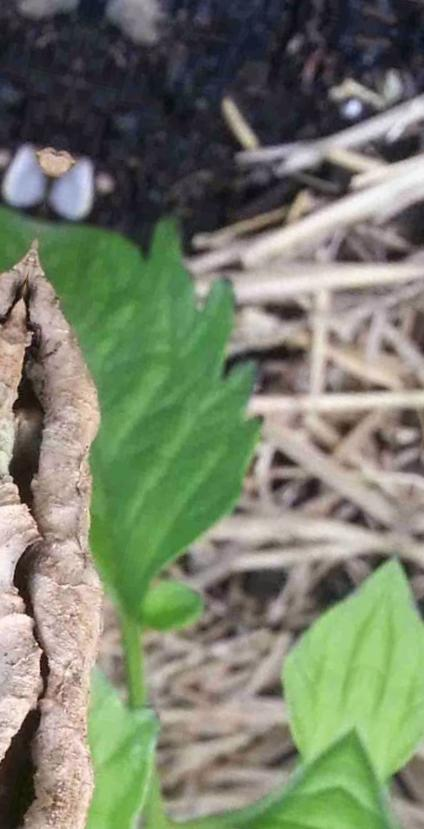Tomato leaf late blight: (0, 157, 384, 829)
